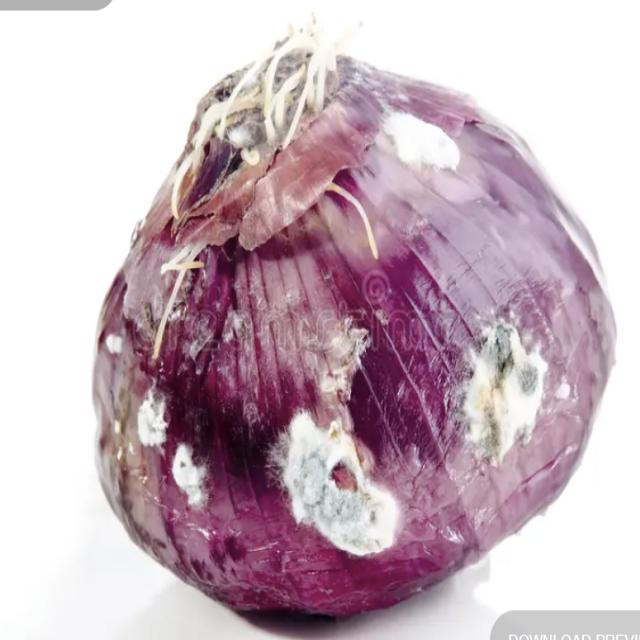mechanical_damage: (109, 13, 612, 606), (108, 13, 610, 604)
